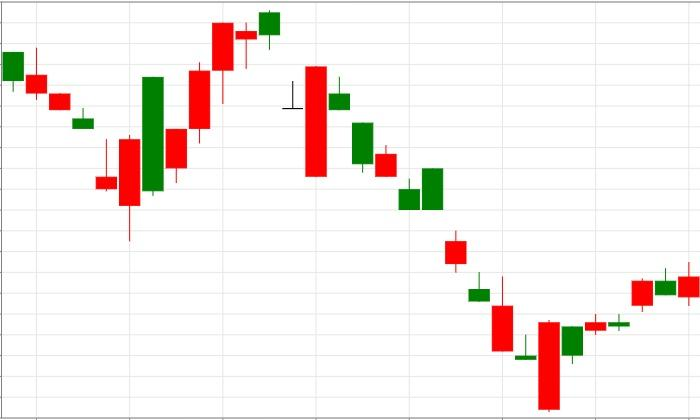bullish_engulfing_rise: (259, 10, 561, 412)
